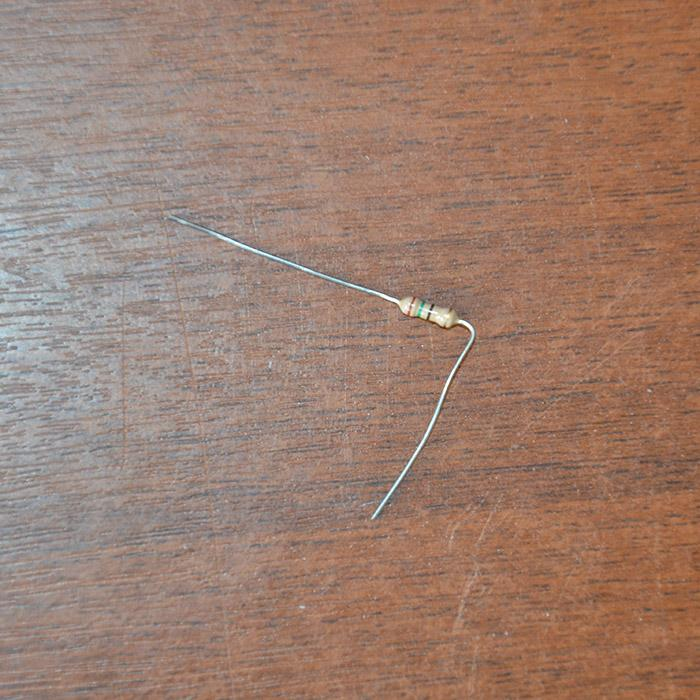resistor: (398, 295, 463, 330)
